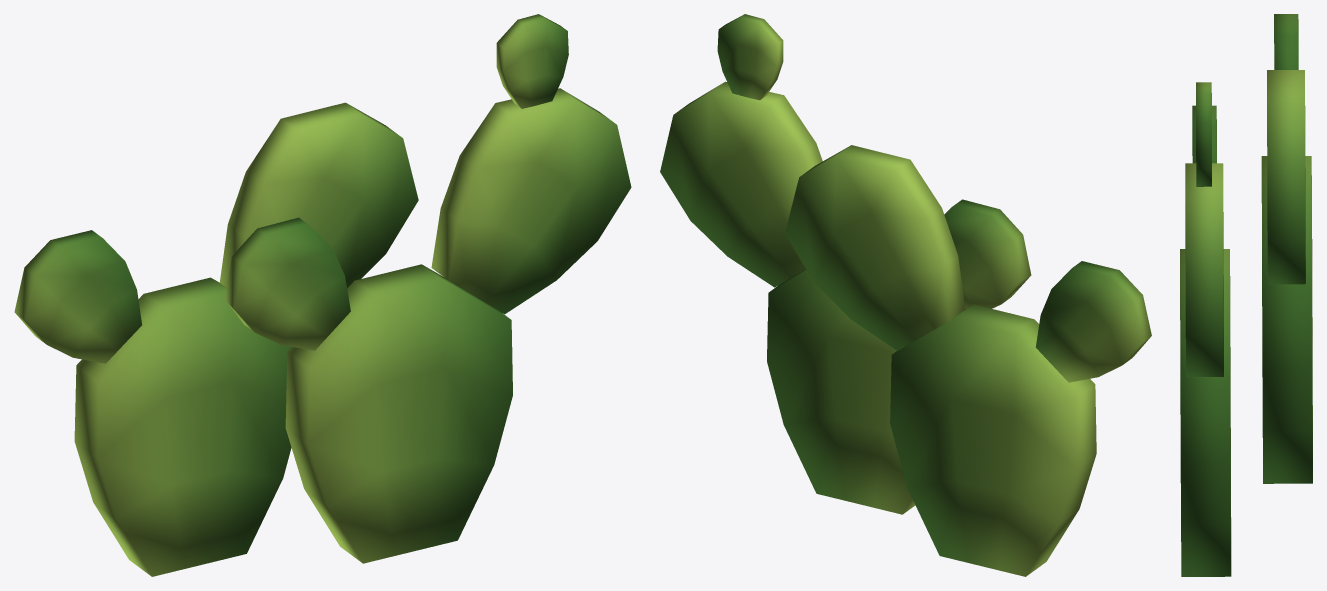
File: cacto.fbx
3 views of the same model, side by side, from view 1: azimuth 30°, elevation 25°; view 2: azimuth 150°, elevation 25°; view 3: azimuth 270°, elevation 25° (orthographic). The views are drawn at different scales.
Visible parts, largest first — view 1: Plane; view 2: Plane; view 3: Plane.
Part boxes in pixels (x1=…): Plane: x1=14, y1=14, x2=631, y2=576; Plane: x1=660, y1=14, x2=1151, y2=576; Plane: x1=1180, y1=14, x2=1312, y2=576.
Bounding box in the file's own units: 41.59 × 34.7 × 7.82.
1 material, 1 textured.
